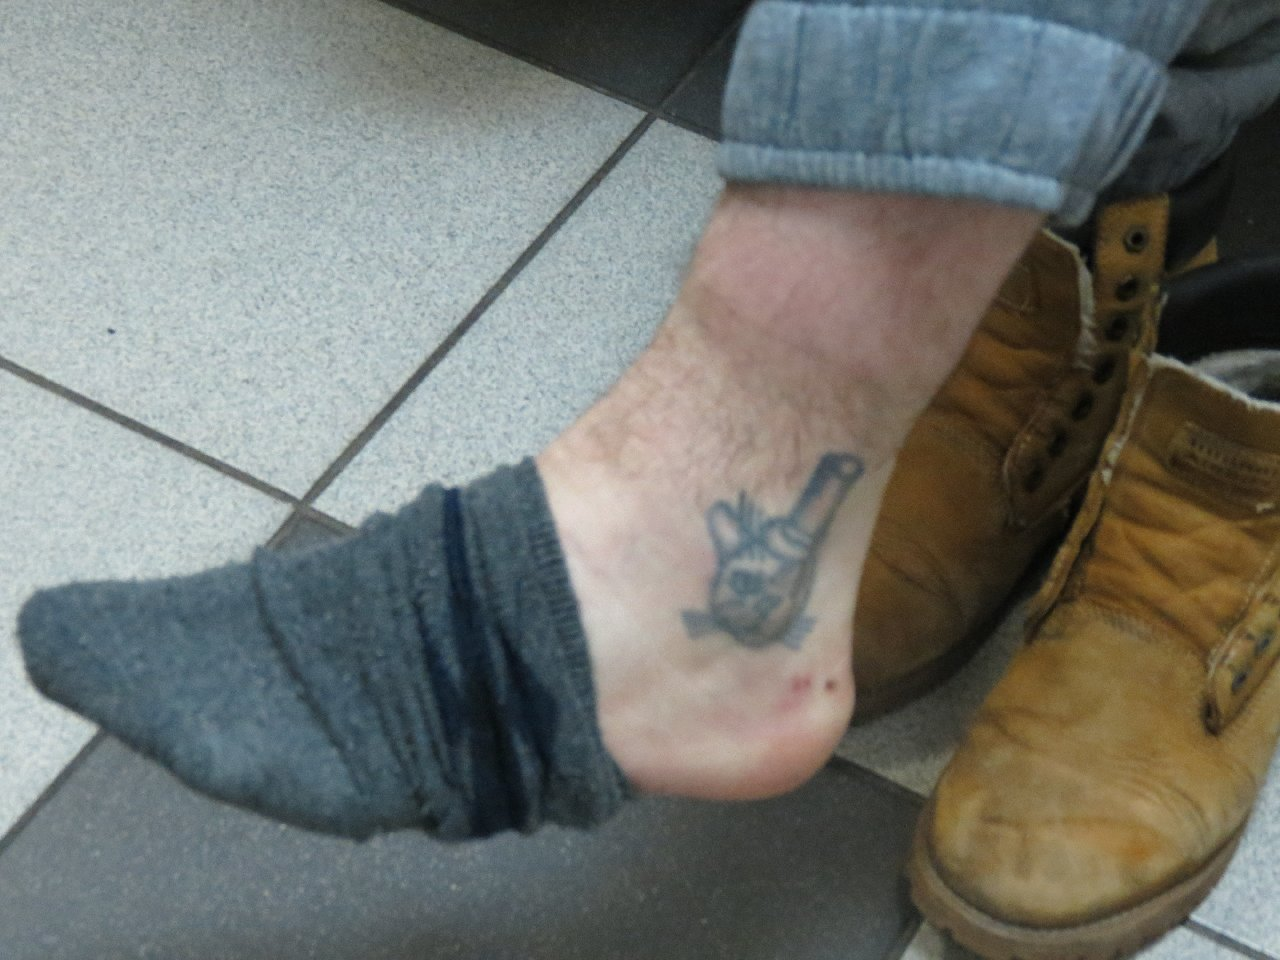tatu8_kot: (679, 430, 872, 659)
